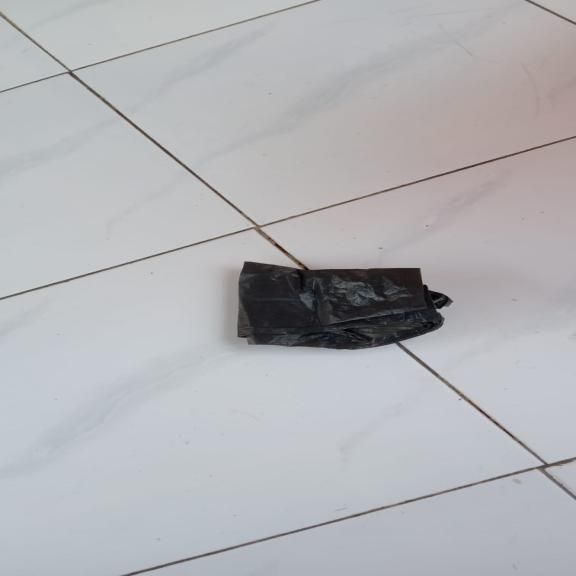Plastik: (239, 261, 451, 350)
